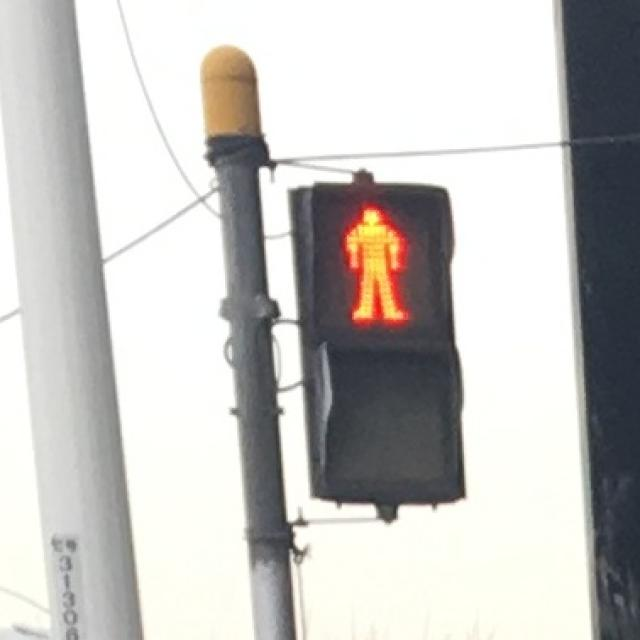red_light: (315, 188, 440, 340)
